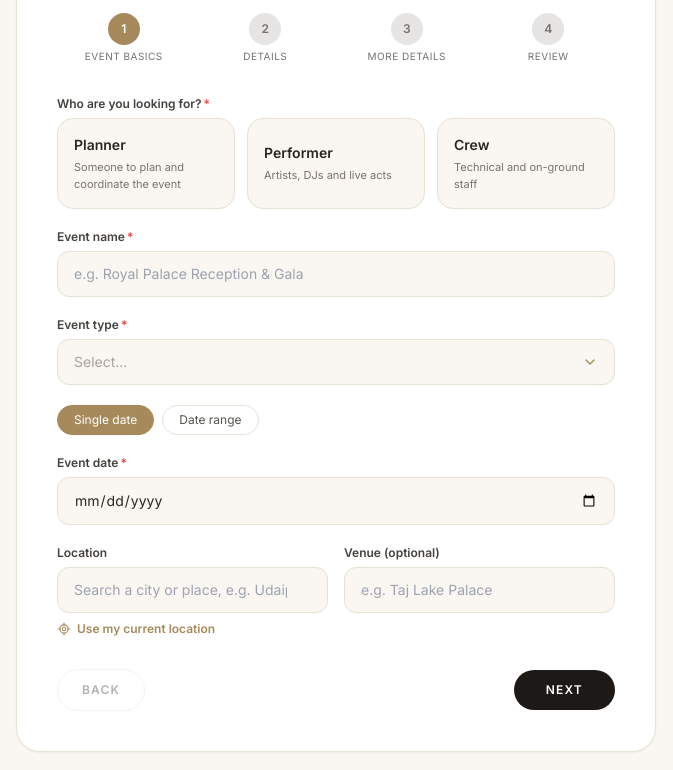
Test: requirement wizard › shows validation errors when step 1 is empty
(page scrolled)
Click the button "Next" at (564, 690), box [514,670,615,710]
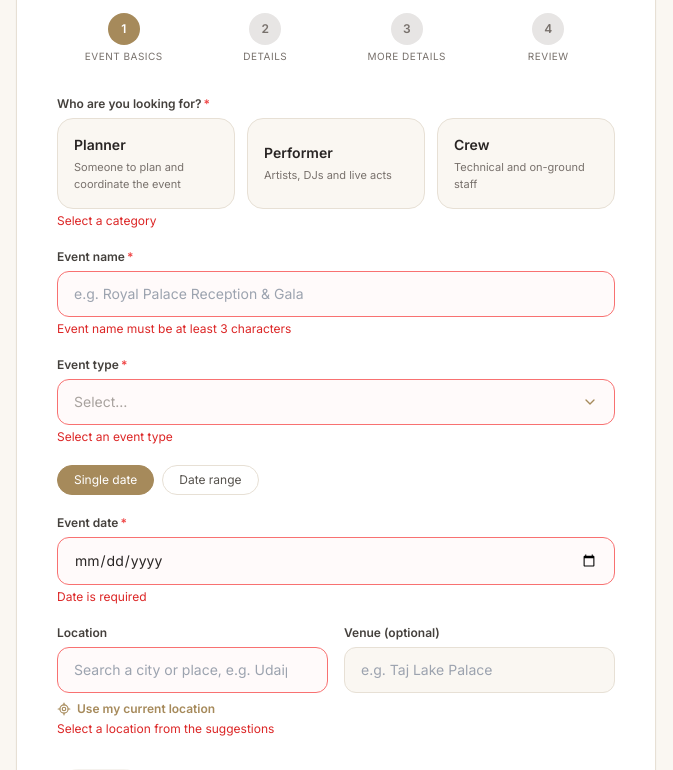
Now the text "Event name must be at least 3 characters" is shown, box [57,321,292,336]
Now the text "Select a category" is shown, box [57,213,156,228]
